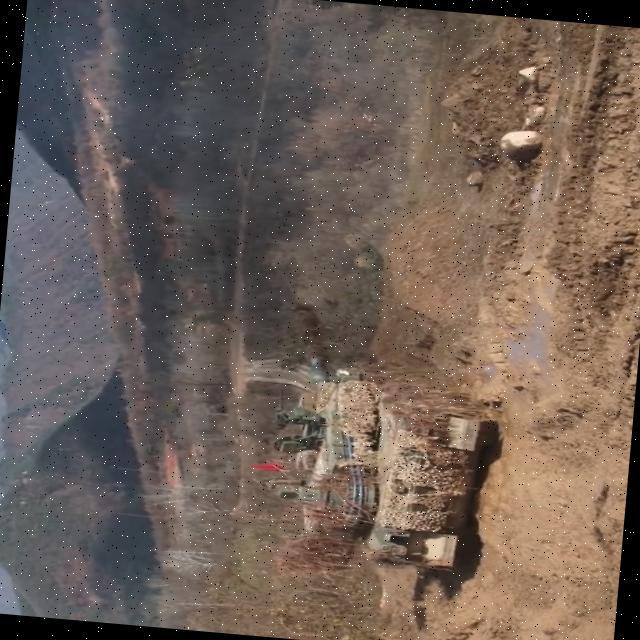korea tank: (254, 301, 522, 588)
